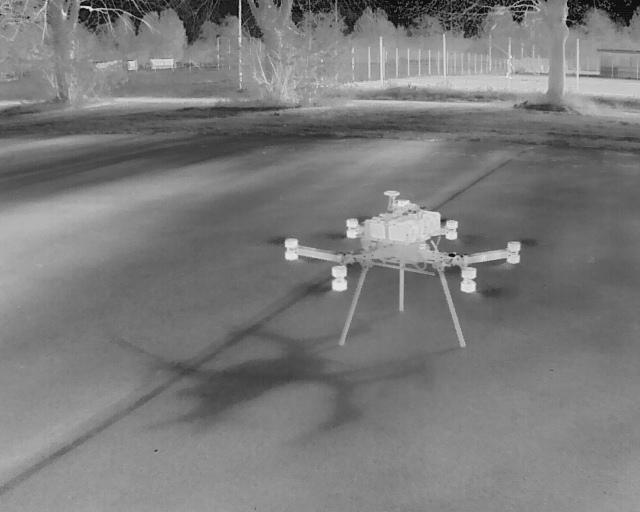drone: (253, 186, 538, 360)
